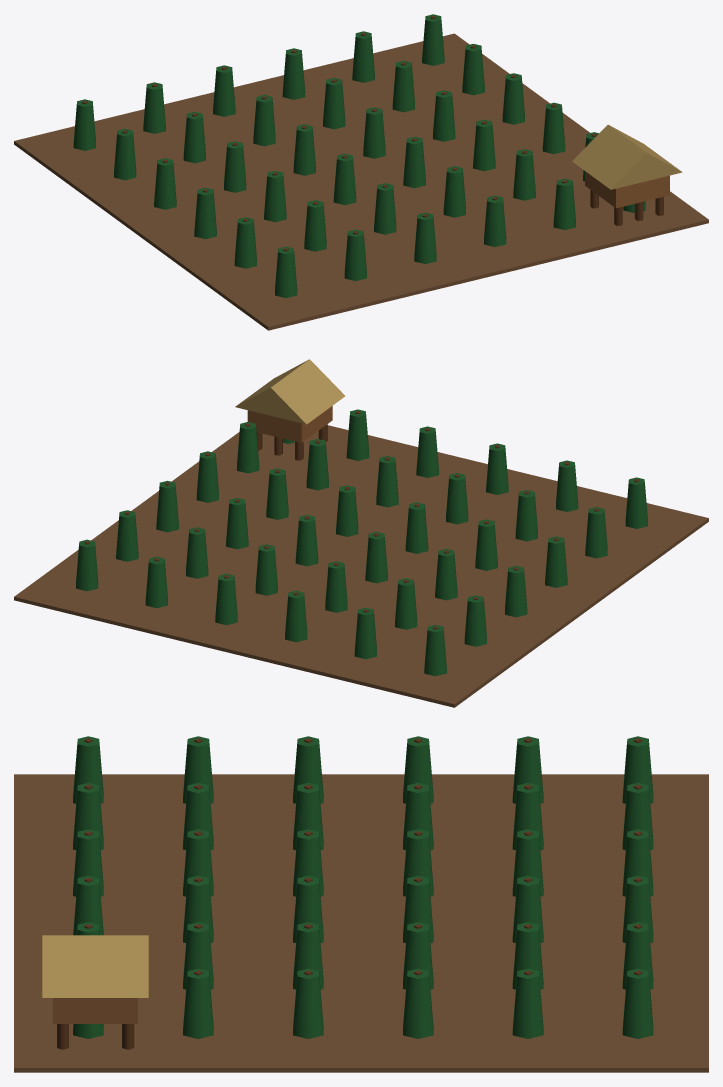
The model's file is building_kebun_lada.glb.
3 renders of one model, top to bottom at view 1: azimuth 30°, elevation 25°; view 2: azimuth 150°, elevation 25°; view 3: azimuth 270°, elevation 25°, orthographic. The views are drawn at different scales.
Parts seen in each view (by area): view 1: building_kebun_lada; view 2: building_kebun_lada; view 3: building_kebun_lada.
Part boxes in pixels (box(x1,y1,x2,y2)): building_kebun_lada: box(14, 14, 708, 330); building_kebun_lada: box(14, 359, 708, 707); building_kebun_lada: box(14, 736, 708, 1072).
Size of the model in its own units: 1.96 by 0.32 by 1.96.
